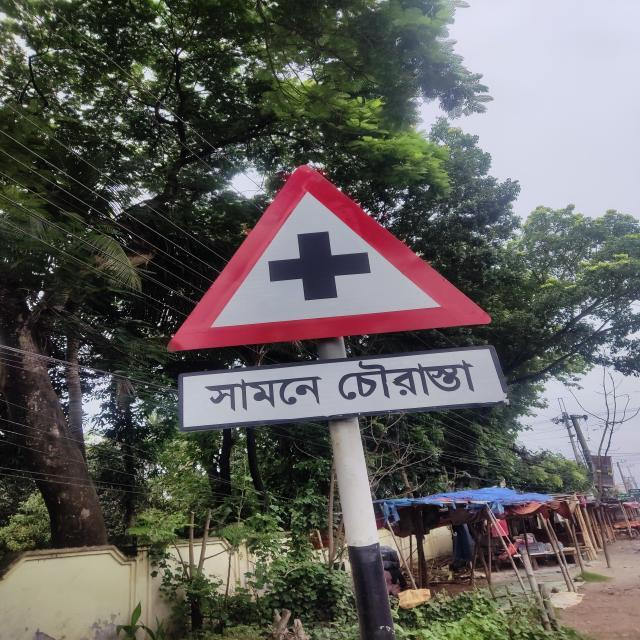Crossroads-ahead: (159, 144, 520, 427)
